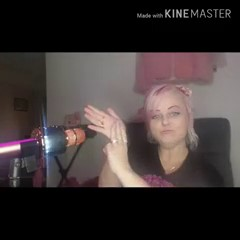M: (79, 100, 137, 182)
